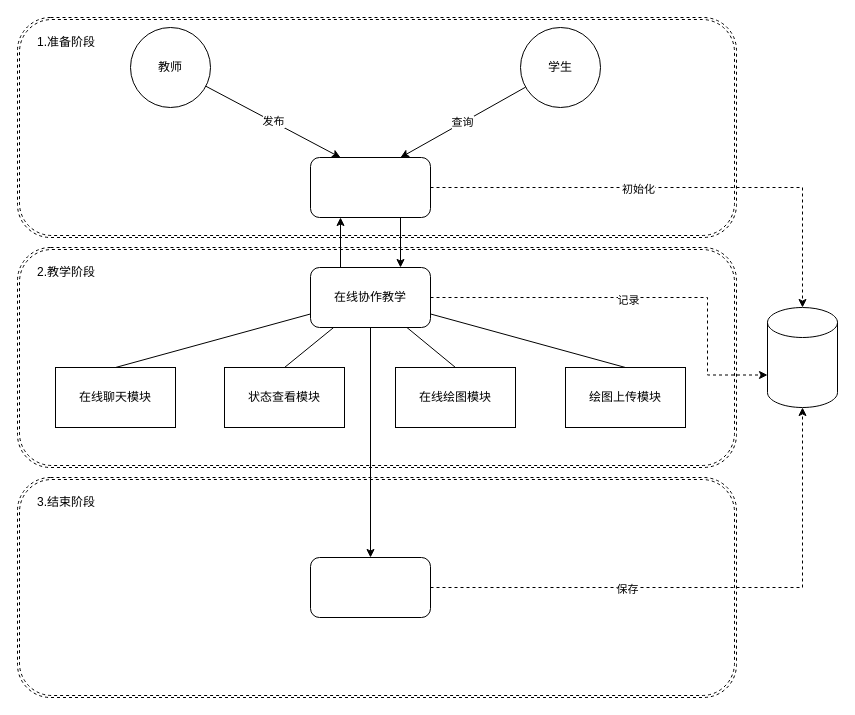
Image size: 855x715. Some labels were removed from this diagram. Each missing label, with the box of its shape:
在线信息: (310, 156, 430, 218)
教学信息数据: (766, 306, 838, 408)
结束教学: (310, 556, 430, 618)
